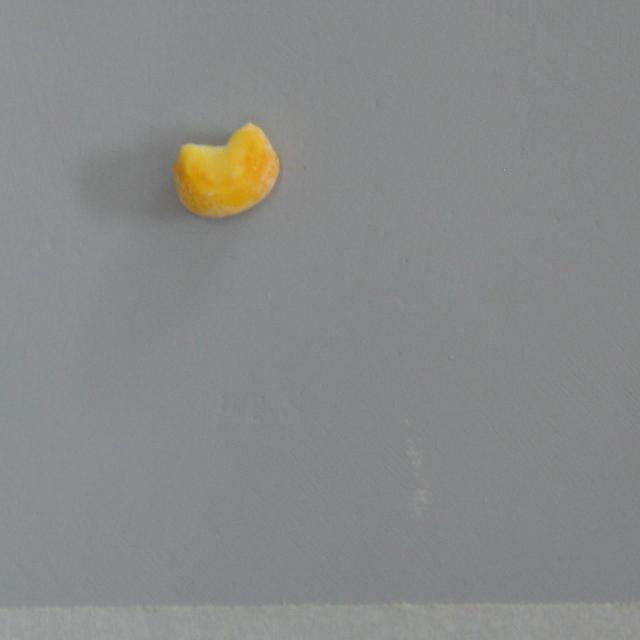pelicula: (172, 122, 279, 217)
